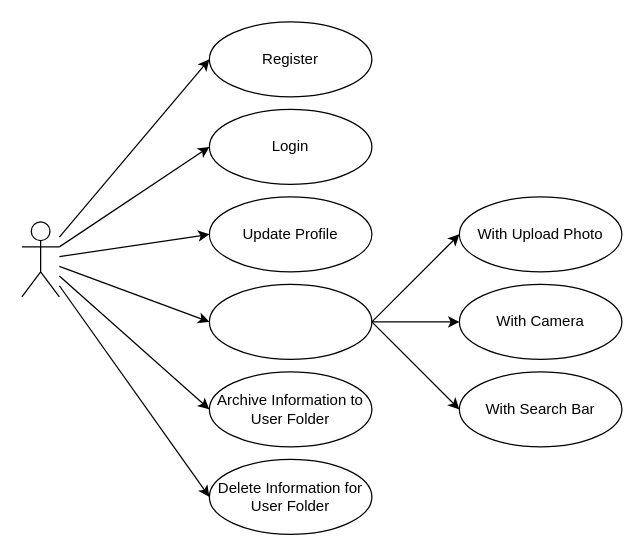
Some shapes in this 644 by 556 pixel diagram are drawn without their labels. The centre of each missing label's shape, as x and y in pixels:
"Seacrh Plant Disease" goes at point 290,321.
"User" goes at point 40,259.
